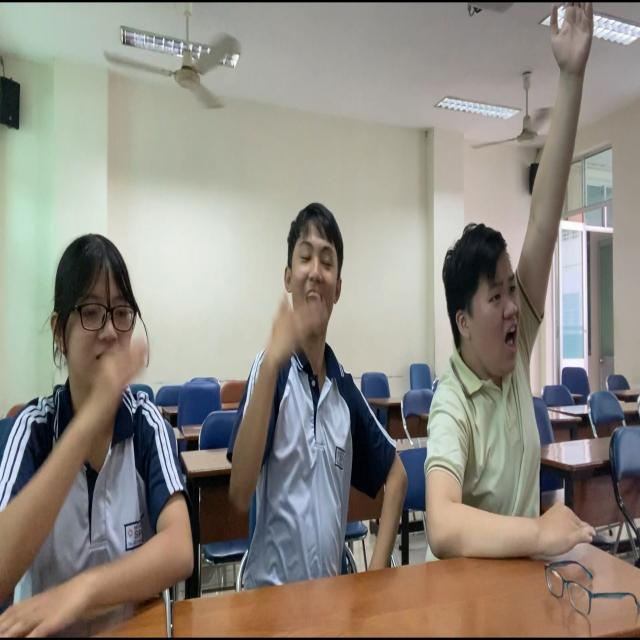raise_hand: (417, 1, 613, 558)
